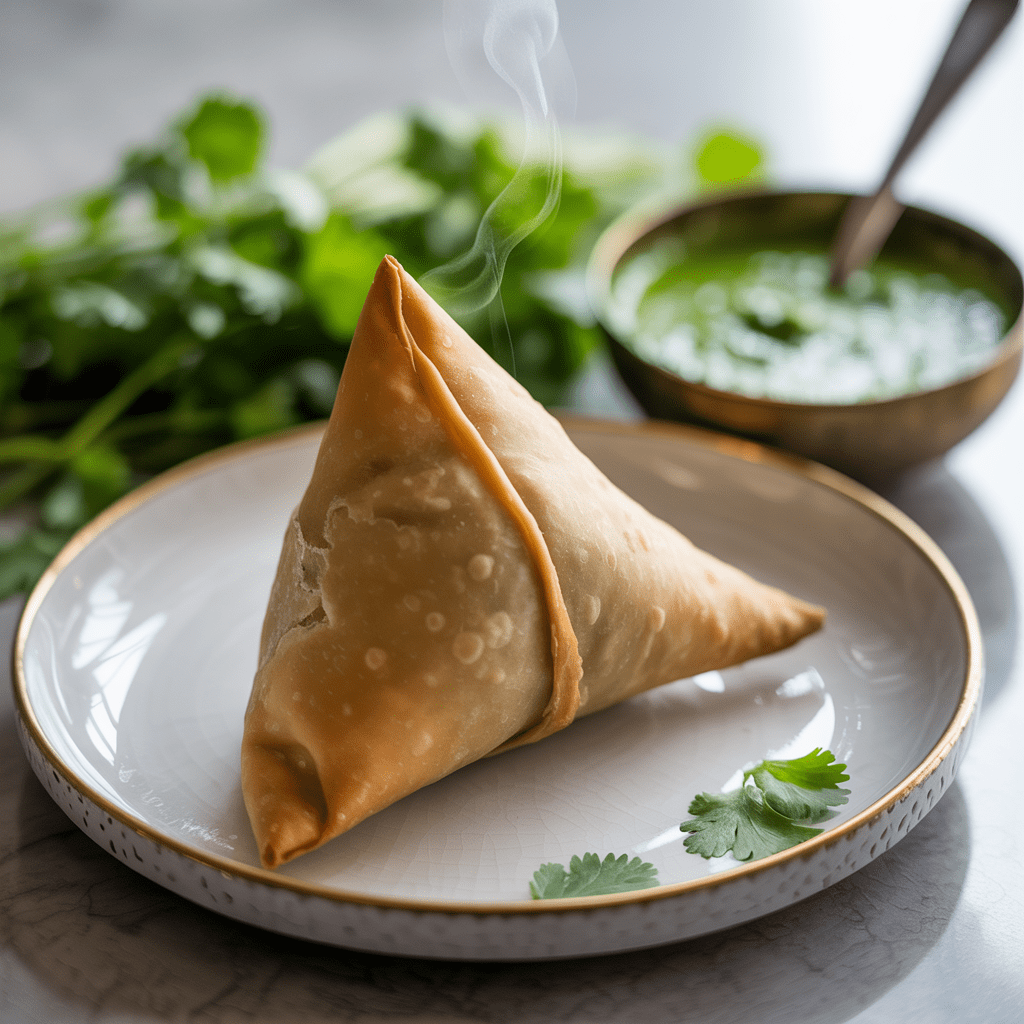samosa: (228, 242, 830, 870)
